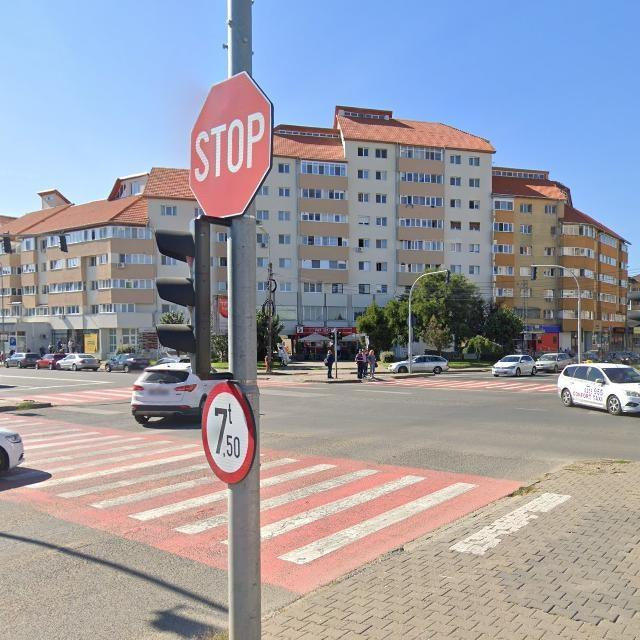prio_stop: (188, 71, 273, 218)
